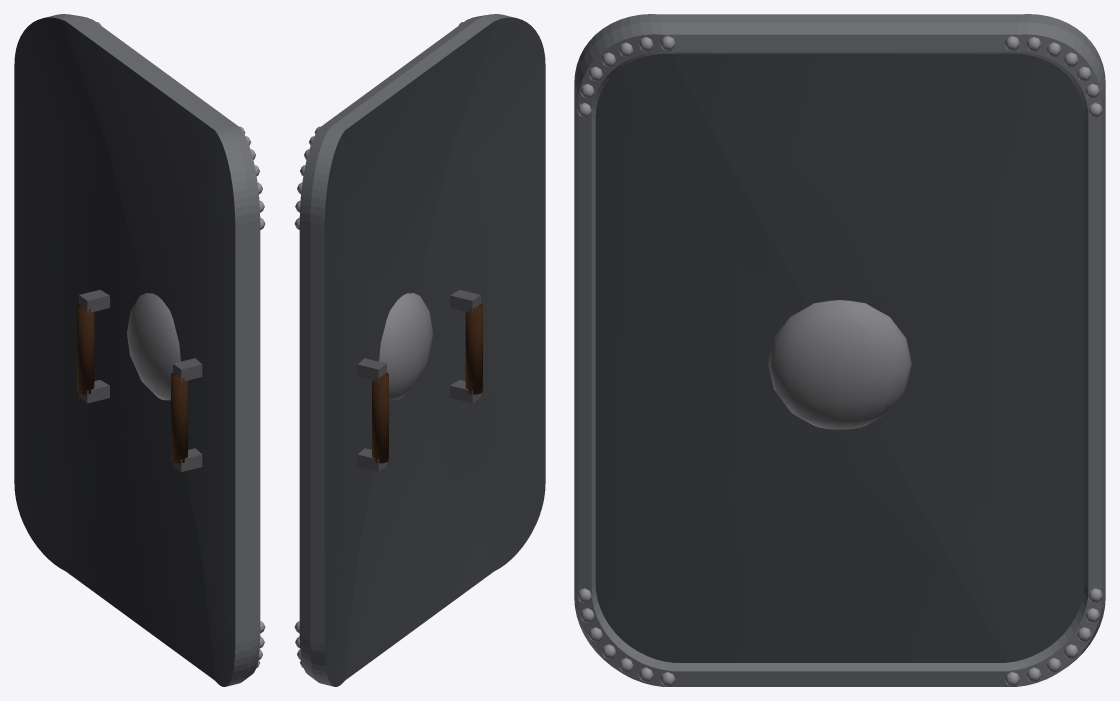
Rendered from SM_EnemyShield.fbx.
3 views of the same model, side by side, from view 1: azimuth 30°, elevation 25°; view 2: azimuth 150°, elevation 25°; view 3: azimuth 270°, elevation 25° (orthographic). The views are drawn at different scales.
Parts seen in each view (by area): view 1: SM_EnemyShield; view 2: SM_EnemyShield; view 3: SM_EnemyShield.
Part boxes in pixels (box(x1,y1,x2,y2)): SM_EnemyShield: box(14, 14, 265, 686); SM_EnemyShield: box(294, 14, 545, 686); SM_EnemyShield: box(574, 14, 1105, 686).
Bounding box in the file's own units: 0.1525 × 1.1 × 0.8.
